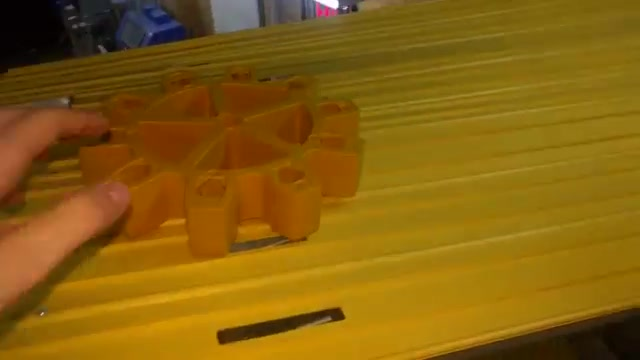gear: (75, 50, 367, 264)
